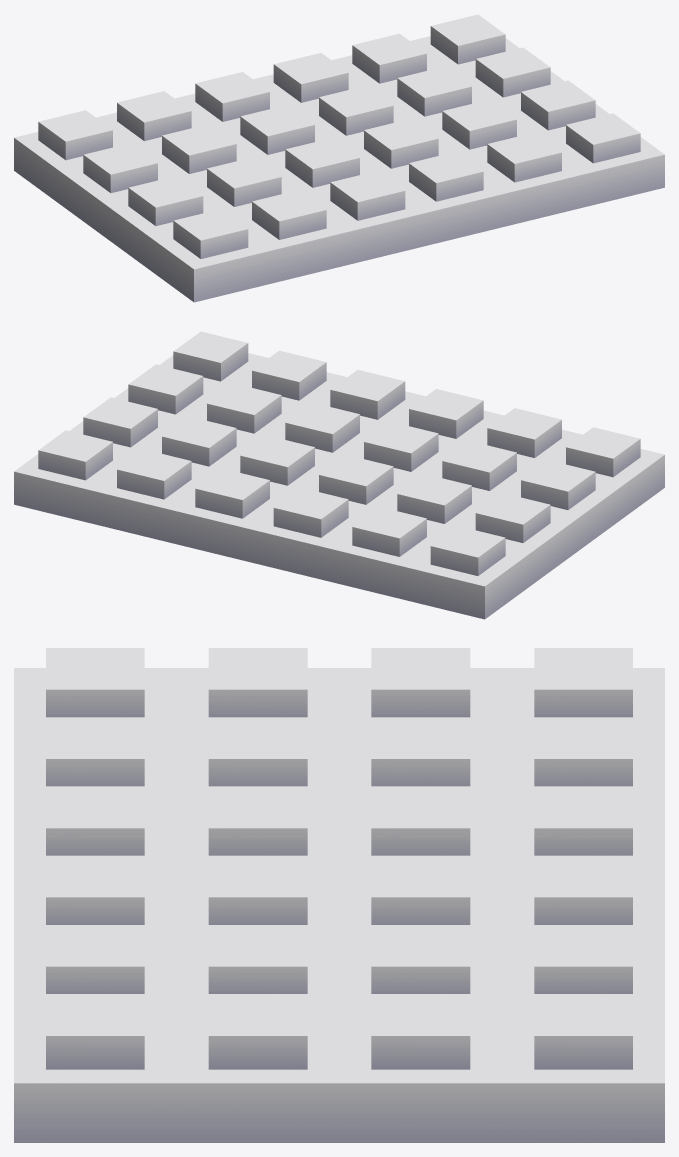
The model's file is square-lq-plate-4x6.glb.
The picture shows the model from 3 angles, top to bottom: view 1: azimuth 30°, elevation 25°; view 2: azimuth 150°, elevation 25°; view 3: azimuth 270°, elevation 25°; orthographic projection. The views are drawn at different scales.
Visible parts, largest first — view 1: square-lq-plate-4x6; view 2: square-lq-plate-4x6; view 3: square-lq-plate-4x6.
Part boxes in pixels (<box>): square-lq-plate-4x6: <box>14,14,664,302</box>; square-lq-plate-4x6: <box>14,331,664,619</box>; square-lq-plate-4x6: <box>14,648,664,1142</box>.
Size of the model in its own units: 2.38 by 0.25 by 1.58.
1 material, 1 textured.
